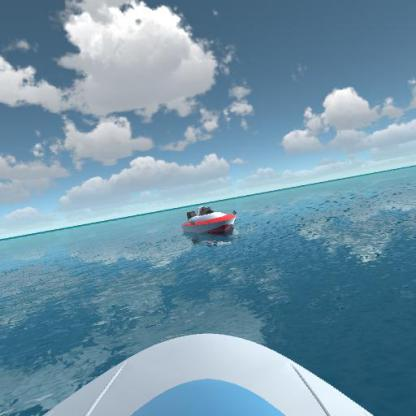usv3: (179, 202, 241, 242)
